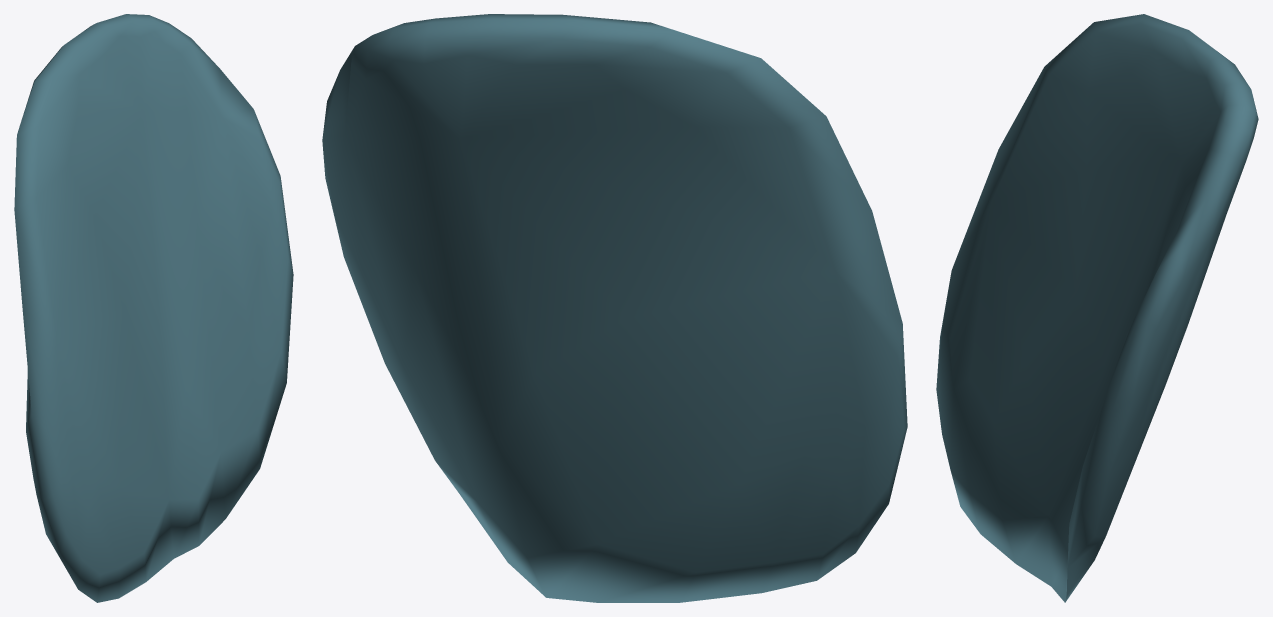
File: Extensor_radialis_brevis-Insertion.r_Generated_Mesh_From_X3D.56.glb
3 views of the same model, side by side, from view 1: azimuth 30°, elevation 25°; view 2: azimuth 150°, elevation 25°; view 3: azimuth 270°, elevation 25° (orthographic). The views are drawn at different scales.
Parts seen in each view (by area): view 1: Extensor_radialis_brevis-Insertion.r_Generated_Mesh_From_X3D; view 2: Extensor_radialis_brevis-Insertion.r_Generated_Mesh_From_X3D; view 3: Extensor_radialis_brevis-Insertion.r_Generated_Mesh_From_X3D.
Boxes of the visible parts, left/top/right/bottom form: Extensor_radialis_brevis-Insertion.r_Generated_Mesh_From_X3D: left=14, top=14, right=293, bottom=602; Extensor_radialis_brevis-Insertion.r_Generated_Mesh_From_X3D: left=322, top=14, right=907, bottom=602; Extensor_radialis_brevis-Insertion.r_Generated_Mesh_From_X3D: left=936, top=14, right=1258, bottom=602.
Size of the model in its own units: 0.00501 by 0.0069 by 0.00379.
